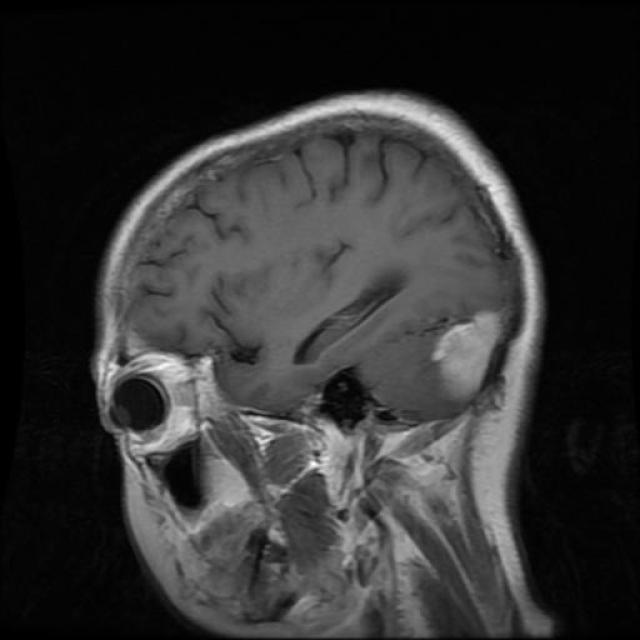meningioma: (432, 312, 500, 400)
